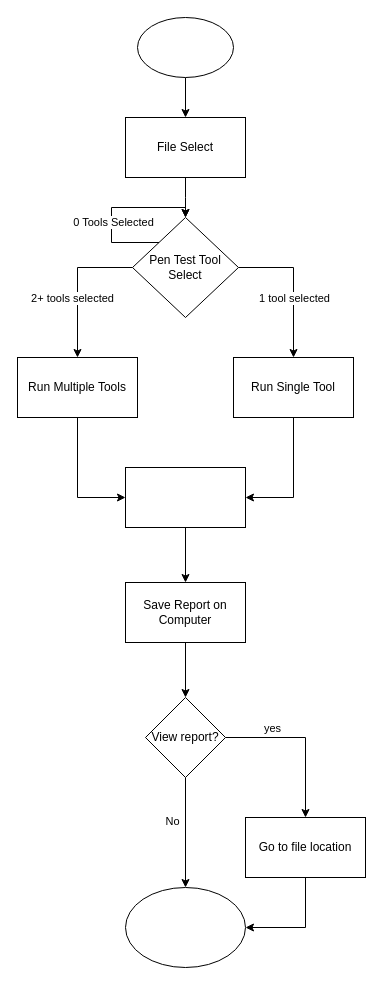
Image size: 383x985. Some labels were removed from this diagram. Each missing label, with the centre of its shape:
end: point (185, 927)
Start: point (185, 47)
Write report: point (185, 497)
